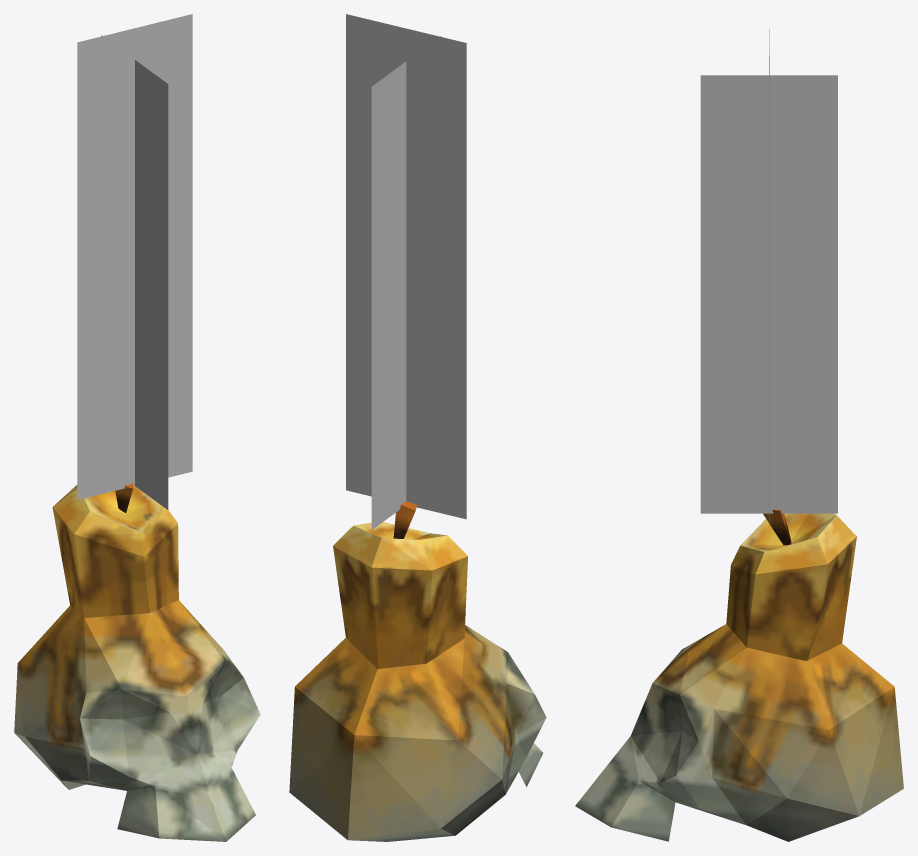
The model's file is crypt_candleskull01.fbx.
3 renders of one model, left to right at view 1: azimuth 30°, elevation 25°; view 2: azimuth 150°, elevation 25°; view 3: azimuth 270°, elevation 25°, orthographic. The views are drawn at different scales.
Parts seen in each view (by area): view 1: obj1.010; view 2: obj1.010; view 3: obj1.010.
Boxes of the visible parts, <box> form: obj1.010: <box>14,14,260,841</box>; obj1.010: <box>289,14,546,841</box>; obj1.010: <box>575,29,903,841</box>.
Size of the model in its own units: 0.4891 by 1.86 by 0.7045.
